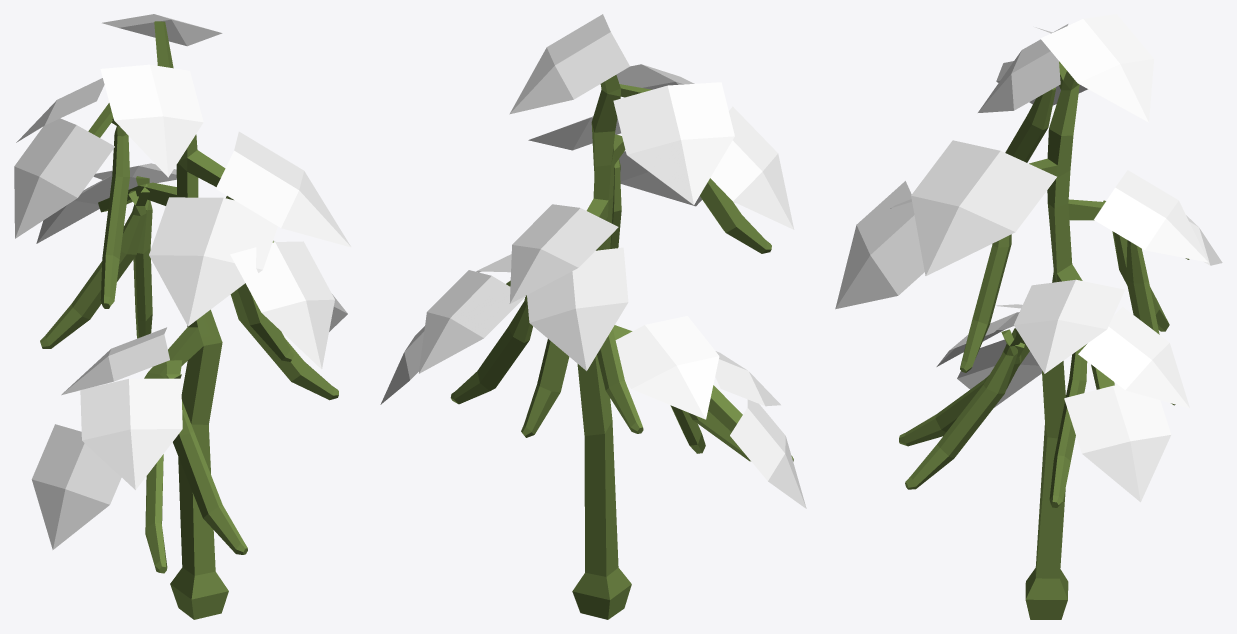
File: bean_plant.glb
3 renders of one model, left to right at view 1: azimuth 30°, elevation 25°; view 2: azimuth 150°, elevation 25°; view 3: azimuth 270°, elevation 25°, orthographic. The views are drawn at different scales.
Visible parts, largest first — view 1: SM_Prop_Plant_Bush_01_Bean; view 2: SM_Prop_Plant_Bush_01_Bean; view 3: SM_Prop_Plant_Bush_01_Bean.
Boxes of the visible parts, x1,y1,x2,y2 form: SM_Prop_Plant_Bush_01_Bean: (14, 14, 351, 619); SM_Prop_Plant_Bush_01_Bean: (380, 14, 806, 619); SM_Prop_Plant_Bush_01_Bean: (835, 14, 1222, 619).
Bounding box in the file's own units: 0.6271 × 0.9888 × 0.5972.
2 materials, 2 textured.
